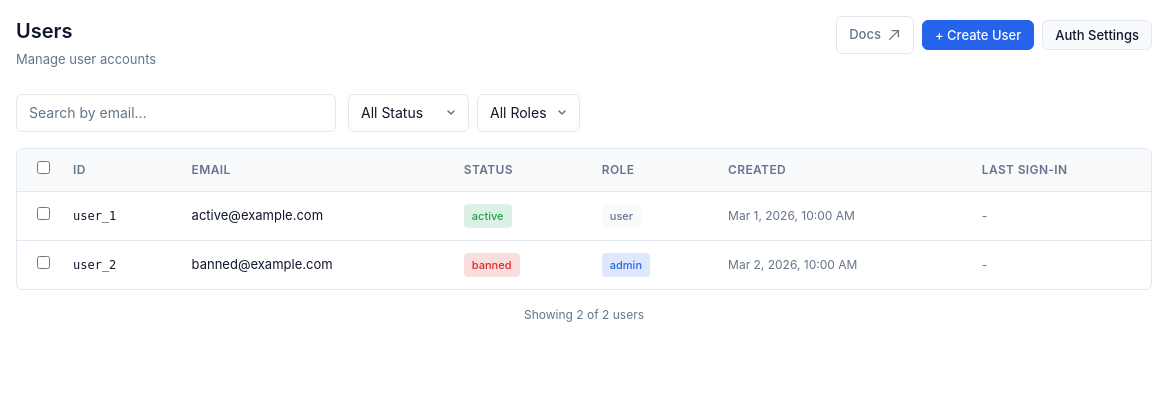
Test: auth page › loads users, applies filters, and clears selection when the filter scope changes
Expected: the text "active@example.com" is shown, [176,191,448,240]
Expected: the text "banned@example.com" is shown, [176,240,448,288]
Click the checkbox named "Select all users": [43, 167] box [36,160,50,174]
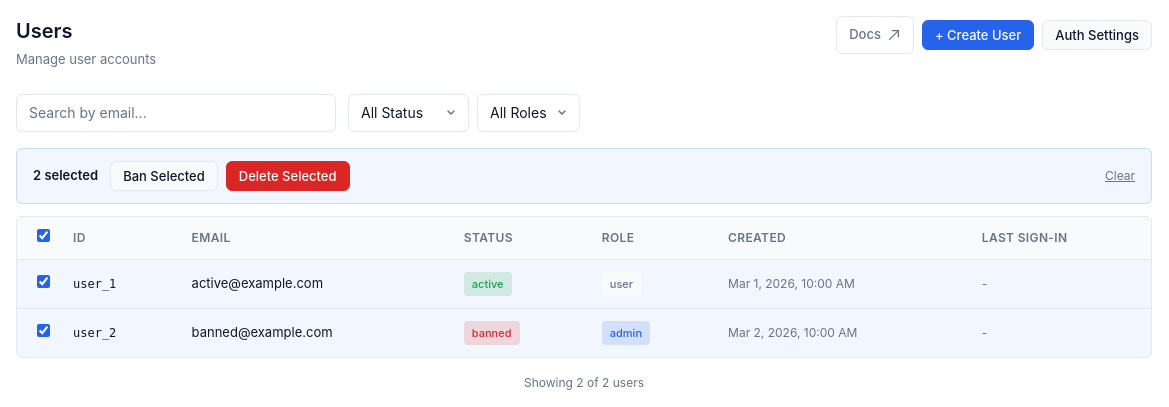
Now the text "2 selected" is shown, box [33,166,98,185]
Select "Admin" in the 2nd dropdown: [528, 112] box [477,94,580,132]
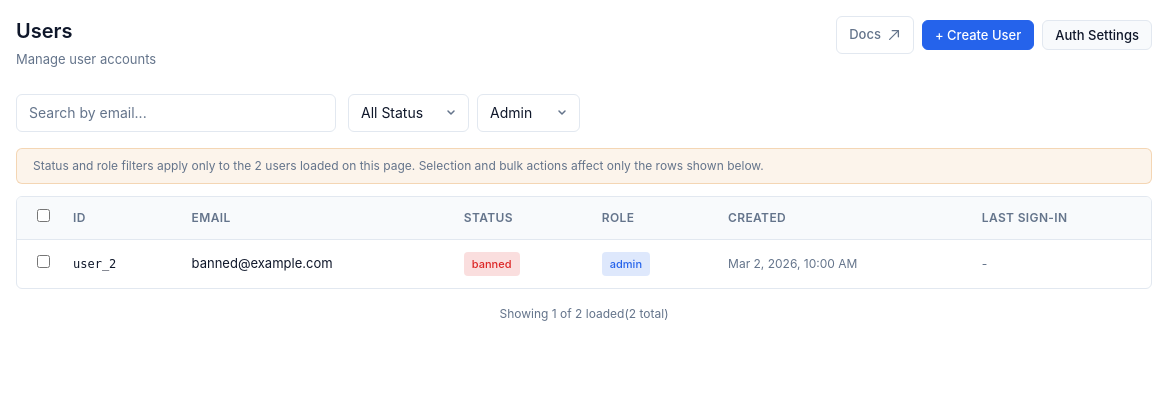
Expected: the text "banned@example.com" is shown, [176,239,448,288]
Now the text "2 selected" is gone
Now the button "active@example.com" is gone
